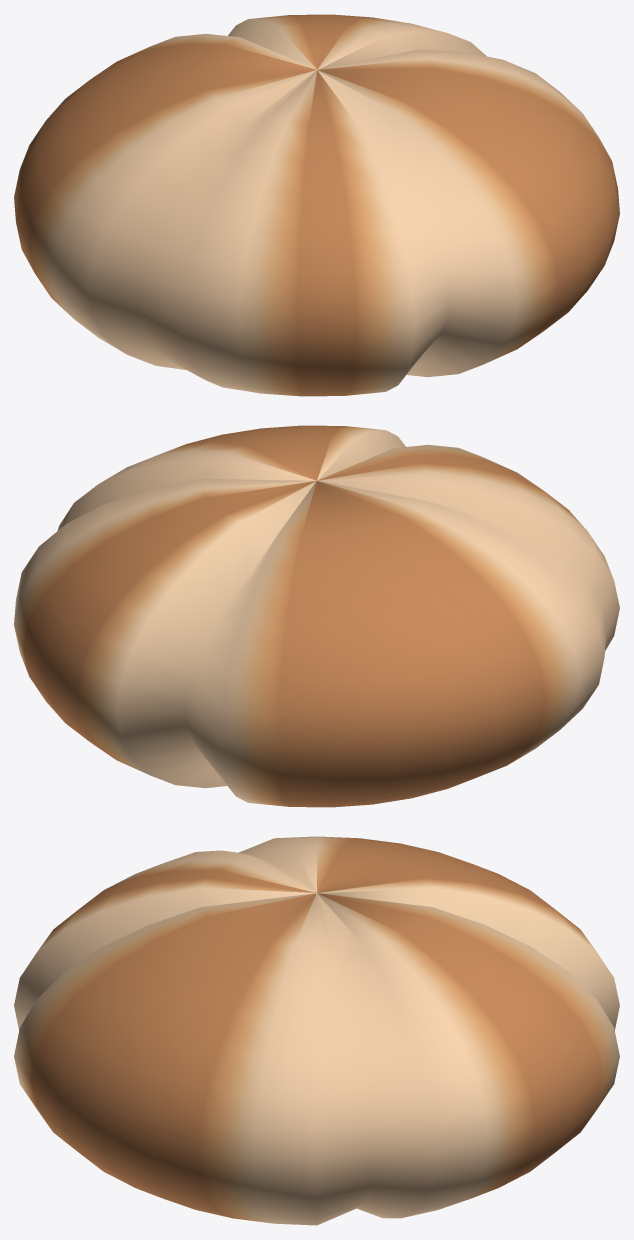
The model's file is bonbonb2.fbx.
The picture shows the model from 3 angles, top to bottom: view 1: azimuth 30°, elevation 25°; view 2: azimuth 150°, elevation 25°; view 3: azimuth 270°, elevation 25°; orthographic projection.
Parts seen in each view (by area): view 1: Sphere; view 2: Sphere; view 3: Sphere.
Part boxes in pixels (bbox=[...]): Sphere: bbox=[14, 14, 619, 396]; Sphere: bbox=[14, 425, 619, 807]; Sphere: bbox=[14, 836, 619, 1225].
Bounding box in the file's own units: 200 × 98.52 × 196.
